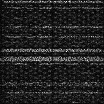lte: (1, 56, 104, 61), (1, 48, 104, 52), (4, 1, 103, 4)
